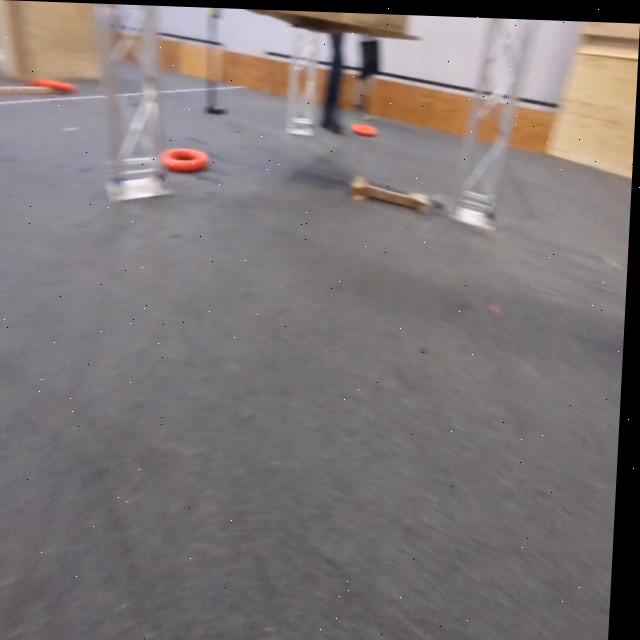note: (159, 145, 212, 173), (35, 74, 77, 96), (351, 119, 381, 136)
